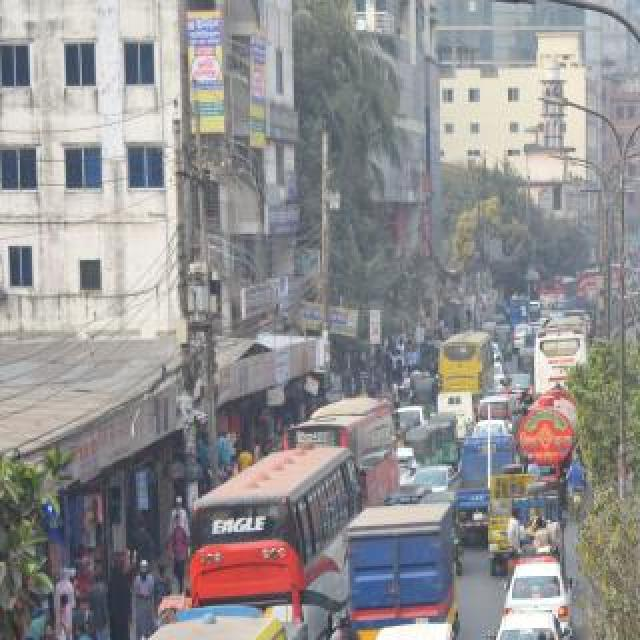bus: (194, 444, 360, 624), (281, 398, 399, 494), (6, 608, 300, 640), (533, 312, 593, 390), (436, 331, 494, 403), (541, 278, 577, 308)
car: (507, 560, 577, 636), (492, 612, 566, 640), (411, 465, 451, 497), (503, 371, 533, 407)
motorbike: (565, 452, 587, 528), (316, 614, 366, 640)
truck: (515, 383, 587, 473), (454, 434, 514, 530), (578, 271, 600, 309)
van: (346, 500, 456, 640), (509, 485, 565, 573), (489, 471, 535, 559), (477, 385, 521, 433), (439, 392, 477, 440), (509, 297, 531, 329)
